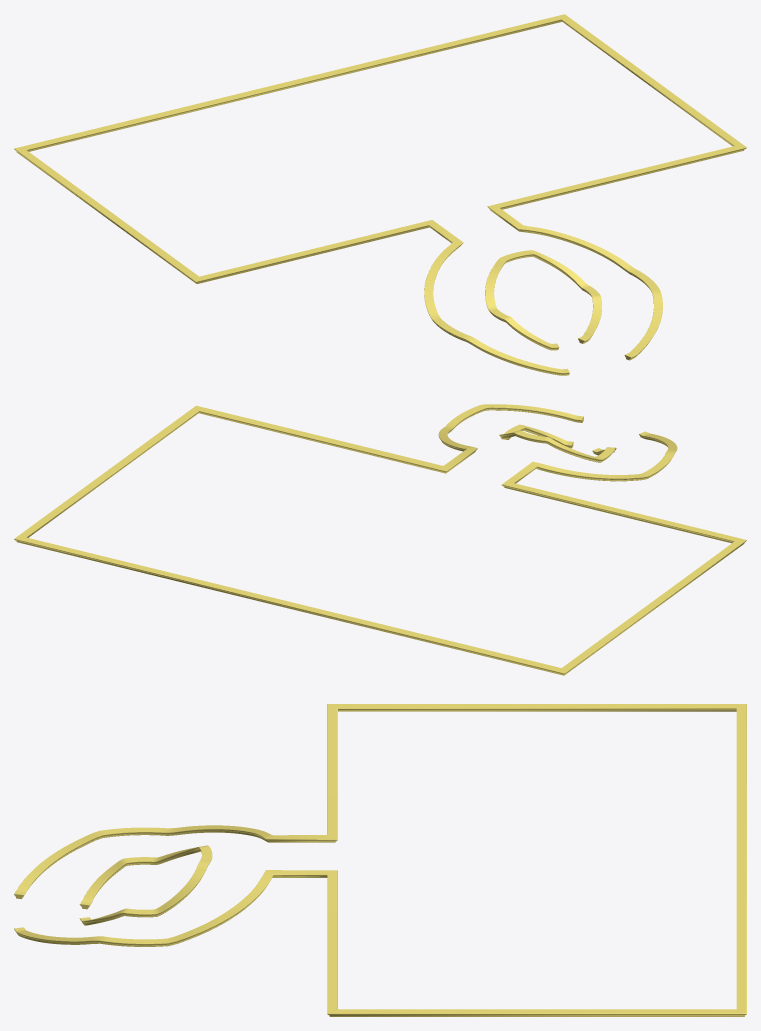
File: FairyTale90.gltf
3 views of the same model, one above another, from view 1: azimuth 30°, elevation 25°; view 2: azimuth 150°, elevation 25°; view 3: azimuth 270°, elevation 25° (orthographic). The views are drawn at different scales.
Visible parts, largest first — view 1: ManorLG_Stone_Blocks; view 2: ManorLG_Stone_Blocks; view 3: ManorLG_Stone_Blocks.
Part boxes in pixels (x1,y1,x2,y2): ManorLG_Stone_Blocks: (14,14,746,375); ManorLG_Stone_Blocks: (14,404,746,675); ManorLG_Stone_Blocks: (14,704,746,1016).
Bounding box in the file's own units: 33.95 × 3.11 × 33.96.
